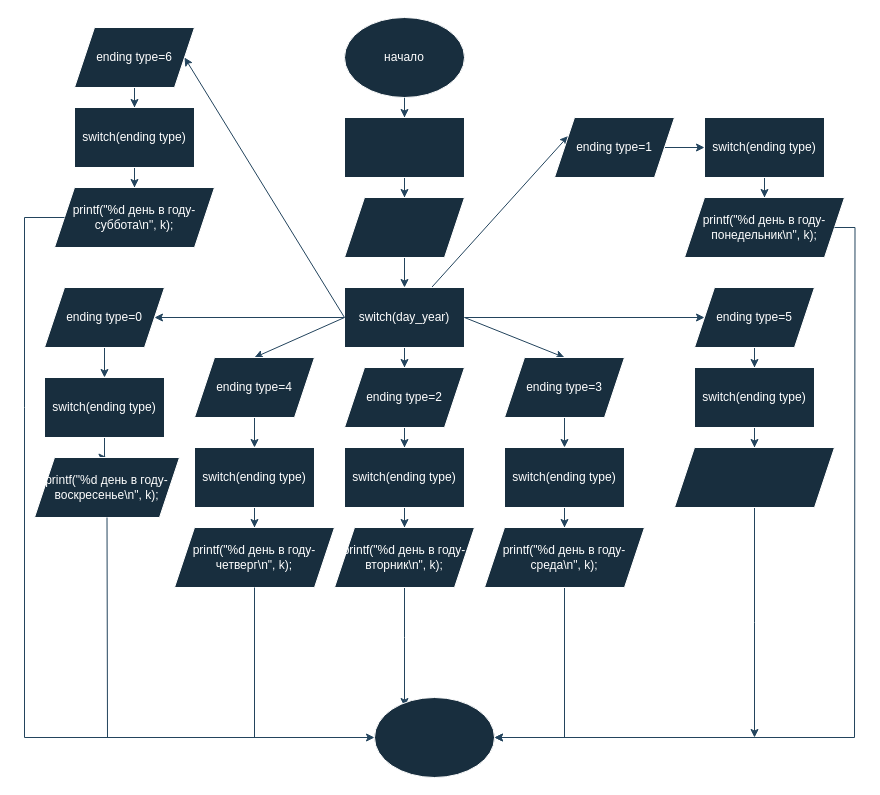
Image size: 880x795. Some labels were removed from this diagram. Each missing label, with the centre of its shape:
printf("%d день в году-пятница\n", k);: [754,477]
ввод k,jan1: [404,227]
конец: [434,737]
объявление k,jan1,day_year: [404,147]
